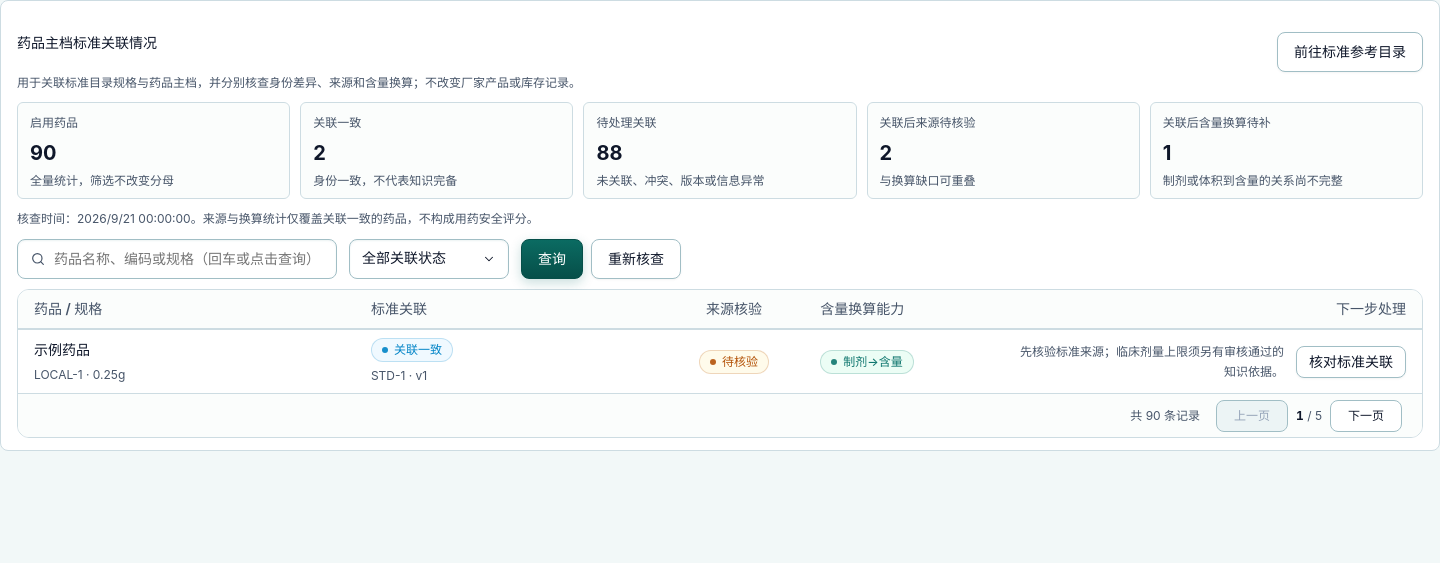
Test: resets pagination when searching and keeps full-inventory metrics on an empty result
Expected: the text "示例药品" is shown, [34,341,90,358]
Click the button "下一页" at (1366, 416), box [1330,400,1402,432]
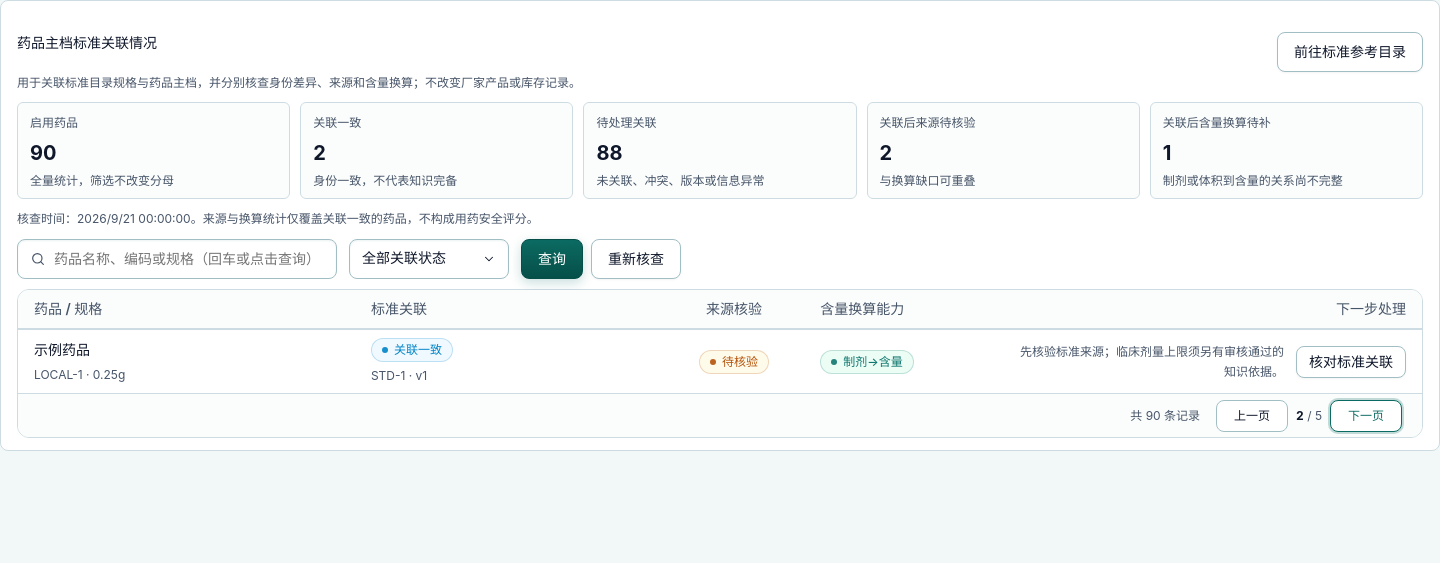
Type "不匹配" into the search field named "搜索标准建设药品" at (189, 259), box [54,240,324,278]
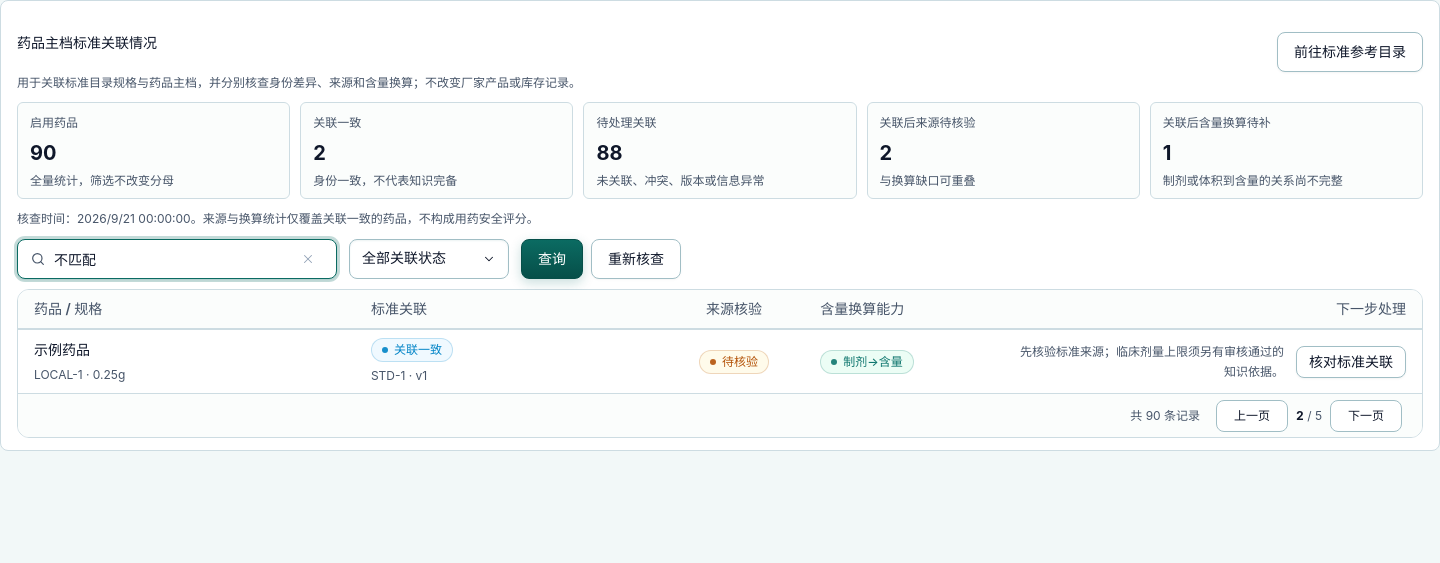
Click the button "查询" at (552, 259), box [521,239,583,279]
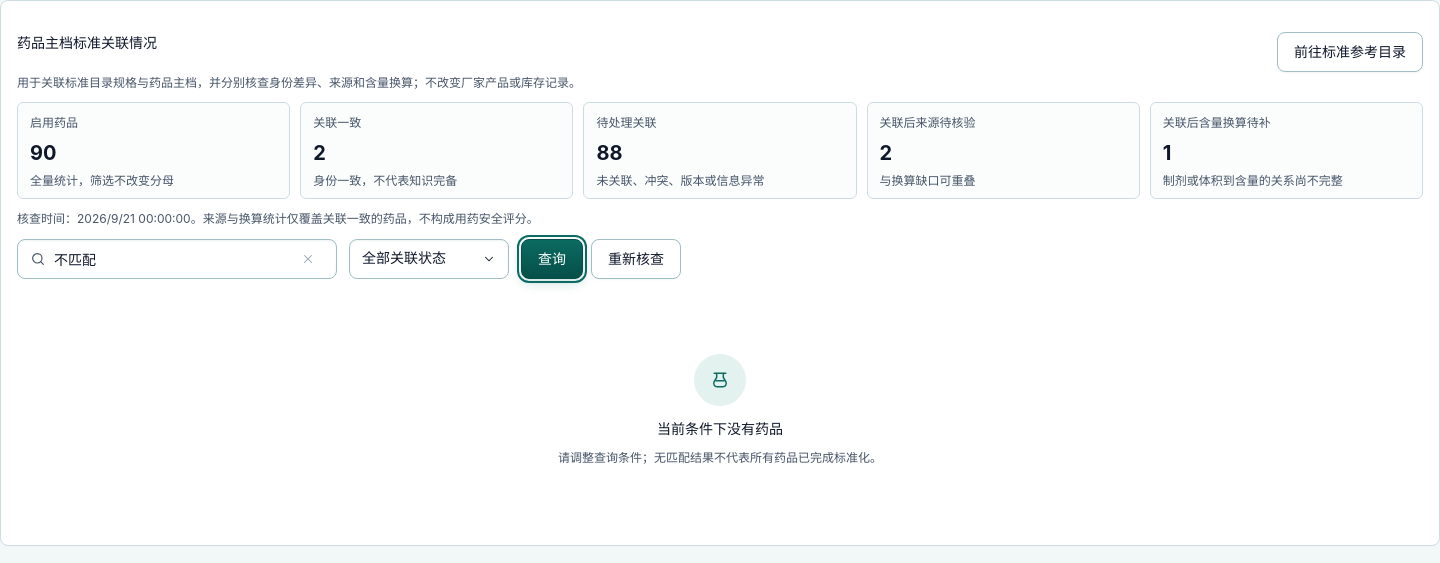
Now the text "当前条件下没有药品" is shown, box [657,418,783,440]
